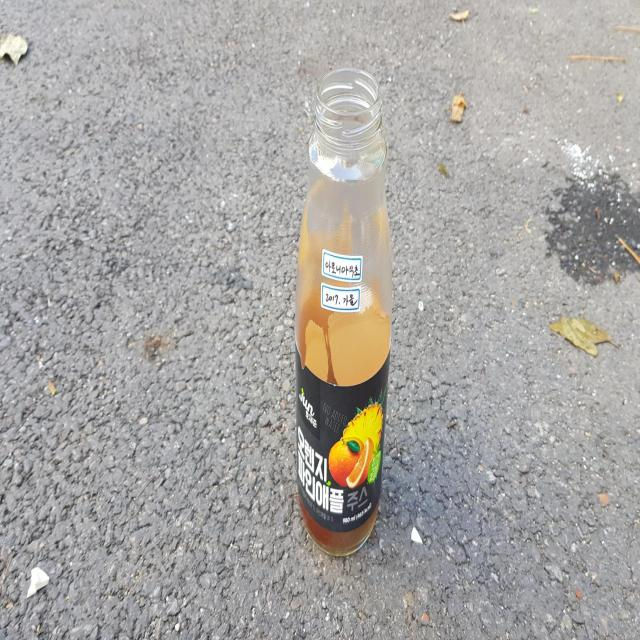glass: (295, 68, 393, 556)
